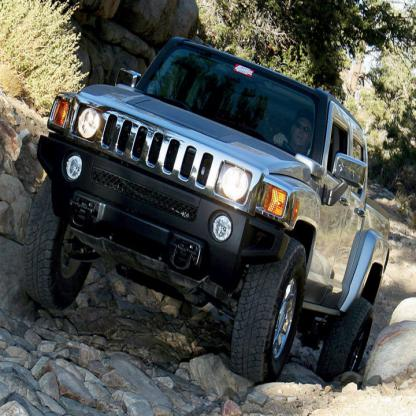Vehicle: (20, 38, 389, 382)
